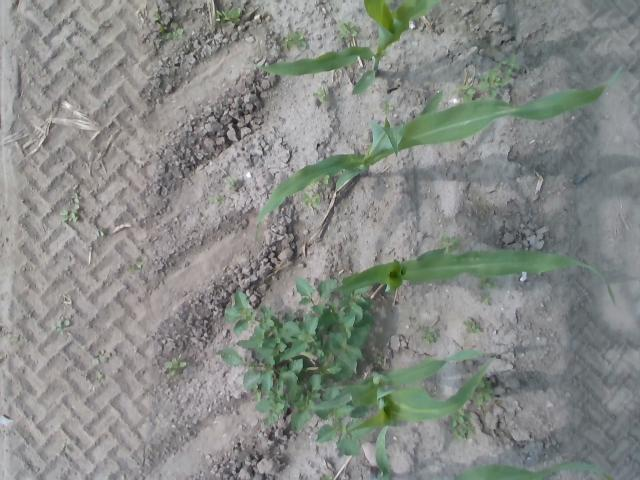Maize: (254, 66, 622, 247), (245, 0, 442, 96), (331, 247, 617, 309), (312, 348, 499, 432), (452, 462, 614, 480), (376, 424, 394, 480)
Weeds: (212, 272, 374, 458), (476, 66, 511, 100), (153, 10, 184, 40), (58, 188, 82, 226), (452, 410, 478, 442), (280, 30, 308, 52), (217, 8, 244, 28), (474, 379, 494, 405), (50, 317, 74, 338), (162, 357, 188, 376), (499, 52, 519, 74), (418, 322, 438, 344), (337, 20, 358, 40), (452, 82, 473, 102), (124, 254, 145, 274), (439, 232, 460, 252), (377, 98, 398, 116), (462, 316, 483, 334), (300, 191, 322, 208), (474, 276, 500, 290), (312, 86, 332, 103), (90, 350, 106, 365), (474, 294, 494, 306), (207, 194, 226, 206), (96, 226, 112, 240), (319, 175, 331, 191), (226, 175, 239, 189), (370, 351, 384, 364), (6, 332, 20, 342), (94, 370, 105, 381), (320, 475, 330, 480), (308, 188, 316, 192)
